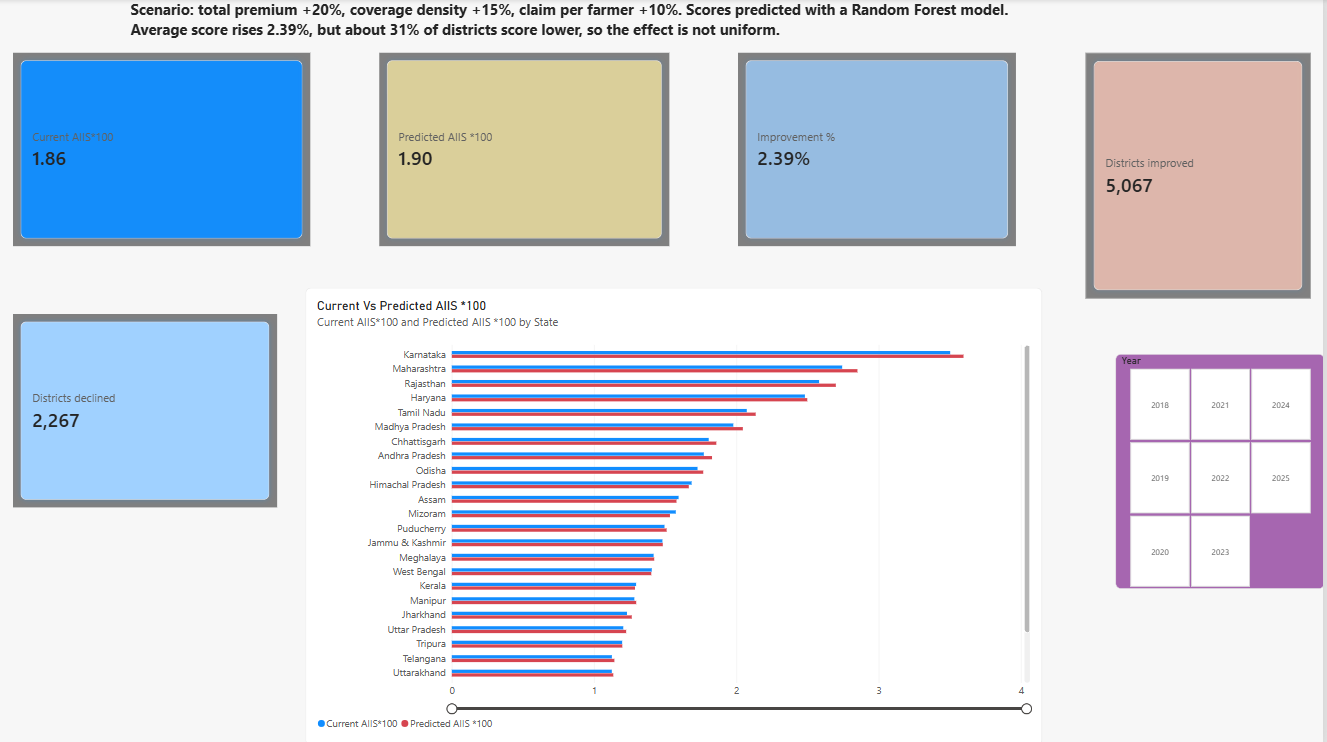

This screenshot's page, from the dashboard's own definition file:
{"tool":"powerbi","page":{"name":"Digital Twin Simulation","canvas":[1920,1080],"ordinal":2},"visuals":[{"type":"cardVisual","fields":{"Data":["digital_twin.Current AIIS*100"]},"box":[22,78,430,280],"z":0,"group":"g1"},{"type":"cardVisual","fields":{"Data":["digital_twin.Districts declined (text)"]},"box":[22,456,382,280],"z":0},{"type":"cardVisual","fields":{"Data":["digital_twin.Predicted AIIS *100"]},"box":[552,78,420,280],"z":1000,"group":"g1"},{"type":"clusteredBarChart","title":"Current  Vs  Predicted AIIS *100","fields":{"Category":["digital_twin.State"],"Y":["digital_twin.Current AIIS*100","digital_twin.Predicted AIIS *100"]},"box":[446,418,1066,662],"z":1000},{"type":"cardVisual","fields":{"Data":["digital_twin.Improvement %"]},"box":[1072,78,402,280],"z":2000,"group":"g1"},{"type":"slicer","fields":{"Values":["digital_twin.Year"]},"box":[1618,514,302,340],"z":2000},{"type":"textbox","box":[191.4,0,1294.3,78.6],"z":3000},{"type":"cardVisual","fields":{"Data":["digital_twin.Districts improved (text)"]},"box":[1574,78,326,356],"z":3000,"group":"g1"},{"type":"group","id":"g1","title":"Group 1","box":[22,78,1878,356],"z":4000}]}

Visuals, with their boxes in screenshot pixels (x1, y1, x2, y2), scaled from the page's 1920x1080 canvas onto the 1327x742 screenshot:
cardVisual - digital_twin.Current AIIS*100: select_region(15, 54, 312, 246)
cardVisual - digital_twin.Districts declined (text): select_region(15, 313, 279, 506)
cardVisual - digital_twin.Predicted AIIS *100: select_region(382, 54, 672, 246)
"Current  Vs  Predicted AIIS *100" clusteredBarChart: select_region(308, 287, 1045, 741)
cardVisual - digital_twin.Improvement %: select_region(741, 54, 1019, 246)
slicer - digital_twin.Year: select_region(1118, 353, 1326, 587)
textbox: select_region(132, 0, 1027, 54)
cardVisual - digital_twin.Districts improved (text): select_region(1088, 54, 1313, 298)
"Group 1" group: select_region(15, 54, 1313, 298)
